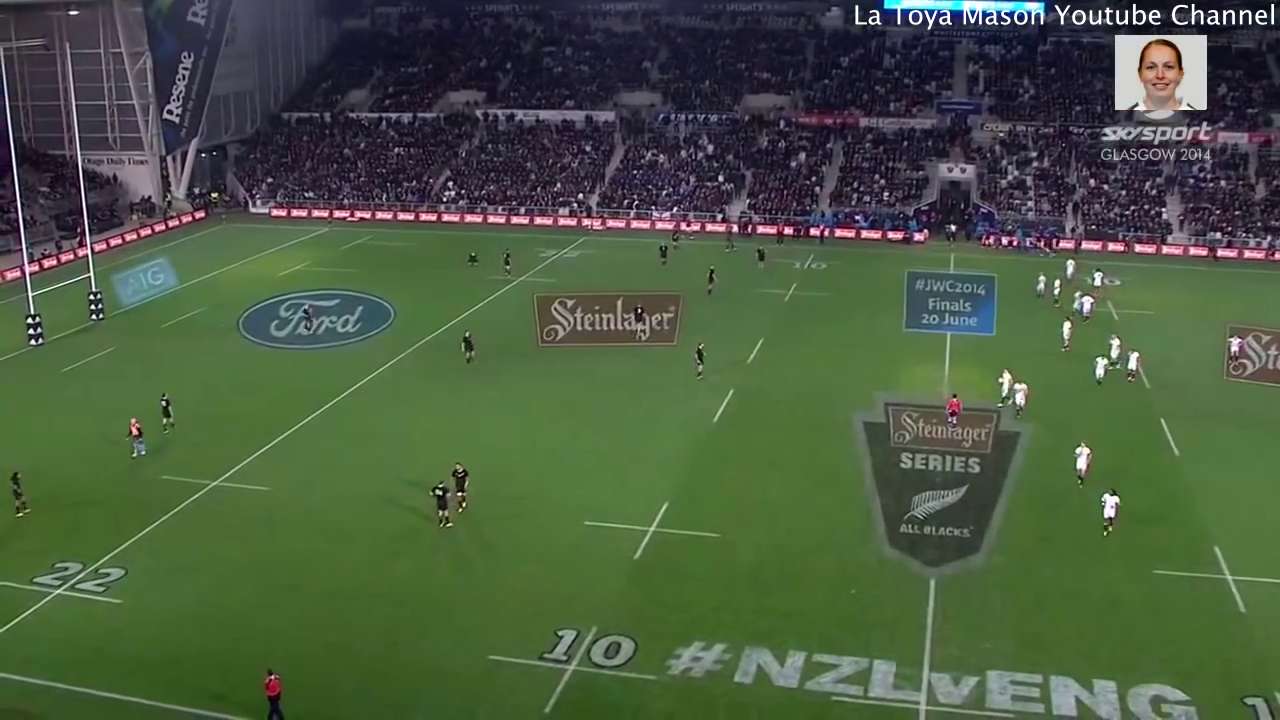10_metre: (483, 623, 661, 717), (582, 498, 724, 562), (1149, 545, 1280, 612), (1065, 298, 1157, 321), (758, 280, 834, 303), (772, 252, 849, 271), (1061, 268, 1133, 287)
player: (119, 408, 155, 463), (1, 468, 35, 522), (428, 479, 458, 533), (1096, 486, 1124, 541), (447, 462, 475, 515), (151, 389, 179, 434), (1070, 437, 1093, 491), (688, 339, 712, 384), (993, 366, 1015, 408), (1011, 379, 1033, 420), (1104, 328, 1125, 370), (943, 390, 964, 430), (458, 323, 478, 364), (1088, 352, 1110, 388), (1221, 332, 1245, 365), (702, 262, 721, 299), (1126, 346, 1144, 385), (498, 245, 516, 282), (629, 301, 646, 336), (719, 222, 736, 255), (1060, 315, 1075, 352), (1088, 267, 1105, 295), (1061, 257, 1078, 284), (1080, 293, 1093, 327), (656, 240, 671, 268), (463, 247, 481, 269), (1051, 276, 1063, 308), (1034, 272, 1048, 298), (754, 244, 766, 273), (669, 227, 682, 252), (1070, 288, 1081, 314)
post: (1, 150, 110, 352)
